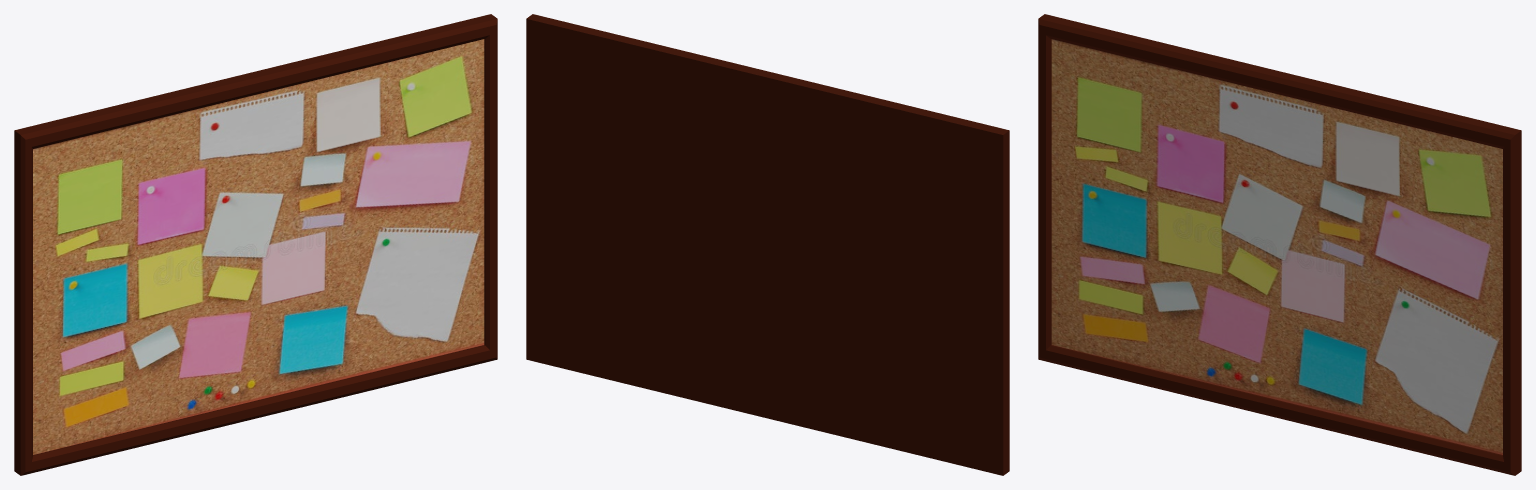
Rendered from pindoard.fbx.
3 renders of one model, left to right at view 1: azimuth 30°, elevation 25°; view 2: azimuth 150°, elevation 25°; view 3: azimuth 330°, elevation 25°, orthographic.
Visible parts, largest first — view 1: PinBoard_Stand1_0; view 2: PinBoard_Stand1_0; view 3: PinBoard_Stand1_0.
Boxes of the visible parts, x1,y1,x2,y2 form: PinBoard_Stand1_0: (14, 14, 497, 475); PinBoard_Stand1_0: (526, 14, 1009, 475); PinBoard_Stand1_0: (1038, 14, 1521, 475).
Bounding box in the file's own units: 1.58 × 1.08 × 0.0472.
Materials: 2 (1 with a texture image).
